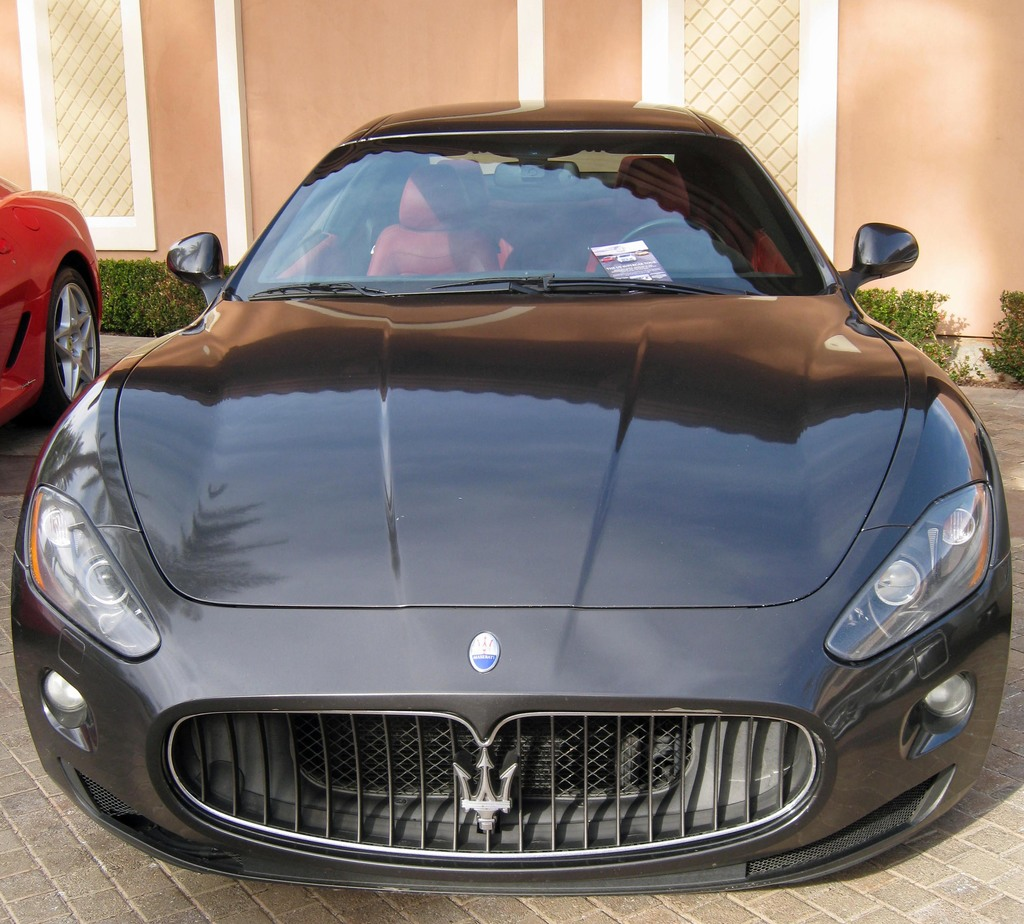Car: (8, 99, 1012, 896), (0, 176, 102, 424)
